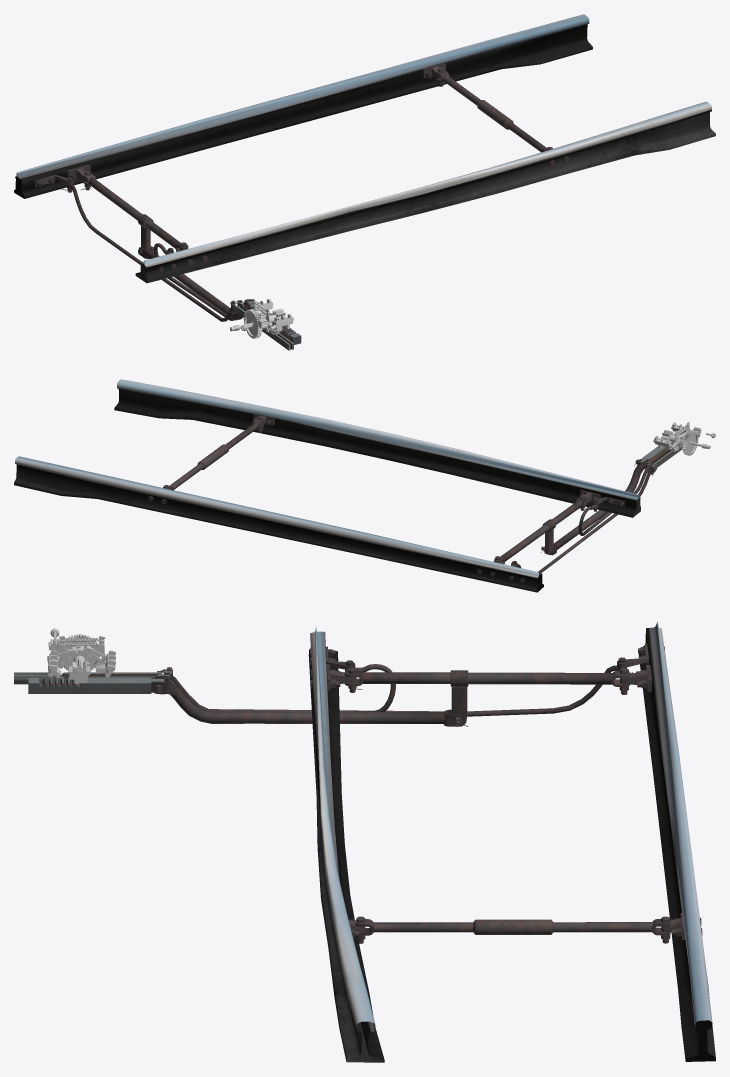
Rendered from sp6_ani_11_otk_StrelMinus_EngineMinus.fbx.
3 renders of one model, top to bottom at view 1: azimuth 30°, elevation 25°; view 2: azimuth 150°, elevation 25°; view 3: azimuth 270°, elevation 25°, orthographic. The views are drawn at different scales.
Parts seen in each view (by area): view 1: ostr_left, ostr_right, soedenit_tyaga_1, soedenit_tyaga_2, tyag_contrl_long, rab_tyaga; view 2: ostr_right, ostr_left, soedenit_tyaga_1, soedenit_tyaga_2, rab_tyaga, tyag_contrl_long, tyag_contrl_short; view 3: ostr_right, ostr_left, soedenit_tyaga_1, soedenit_tyaga_2, rab_tyaga, shiber, tyag_contrl_long, line_01.
Part boxes in pixels (x1,y1,x2,y2): ostr_left: (14, 14, 592, 198); ostr_right: (135, 101, 715, 283); soedenit_tyaga_1: (80, 171, 188, 251); soedenit_tyaga_2: (436, 67, 552, 152); tyag_contrl_long: (61, 177, 235, 321); rab_tyaga: (138, 246, 259, 320); ostr_right: (114, 379, 640, 517); ostr_left: (14, 456, 543, 592); soedenit_tyaga_1: (494, 495, 586, 564); soedenit_tyaga_2: (163, 416, 263, 490); rab_tyaga: (541, 459, 648, 555); tyag_contrl_long: (512, 467, 654, 573); tyag_contrl_short: (578, 465, 649, 535); ostr_right: (308, 626, 384, 1062); ostr_left: (617, 622, 715, 1061); soedenit_tyaga_1: (344, 667, 630, 723); soedenit_tyaga_2: (355, 916, 670, 943); rab_tyaga: (152, 677, 467, 726); shiber: (28, 677, 164, 693); tyag_contrl_long: (170, 657, 632, 716); line_01: (14, 671, 170, 684).
Bounding box in the file's own units: 3.84 × 0.3388 × 2.82.
